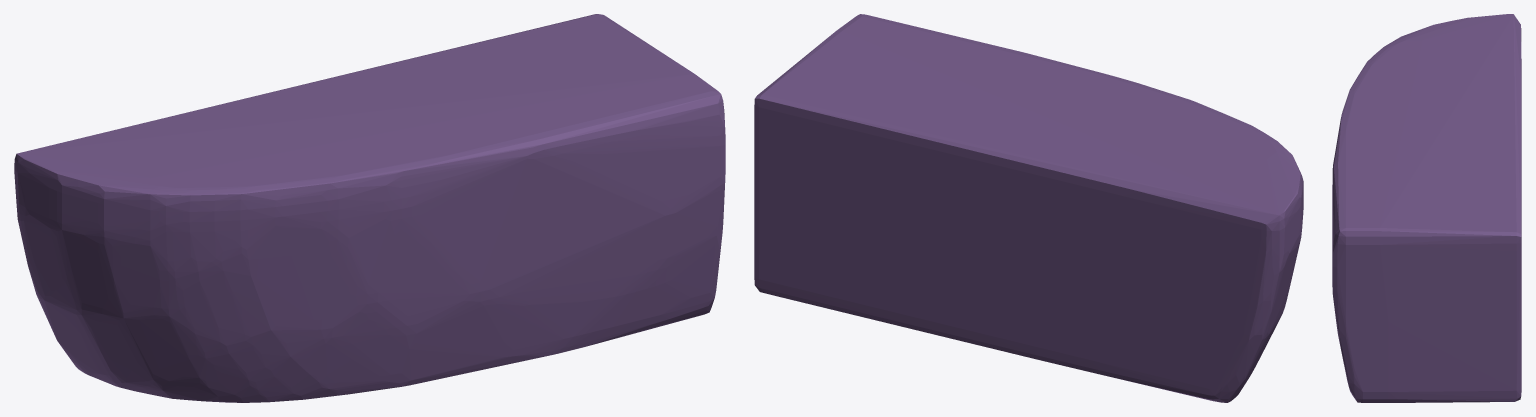
File: left-elbow-0_part_1.obj
3 renders of one model, left to right at view 1: azimuth 30°, elevation 25°; view 2: azimuth 150°, elevation 25°; view 3: azimuth 270°, elevation 25°, orthographic. The views are drawn at different scales.
Bounding box in the file's own units: 0.0554 × 0.0204 × 0.0202.
